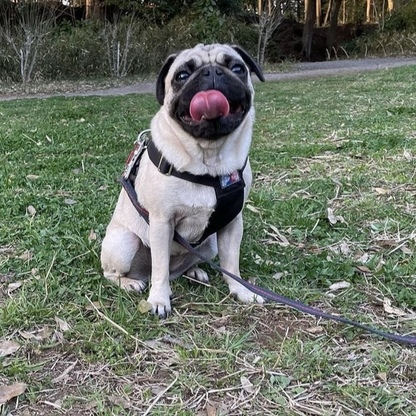Pug: (94, 38, 272, 322)
